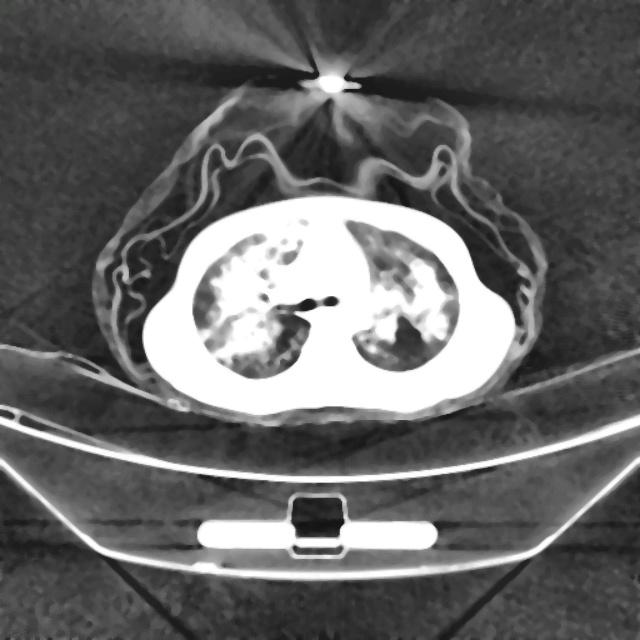covid: (139, 192, 519, 423)
